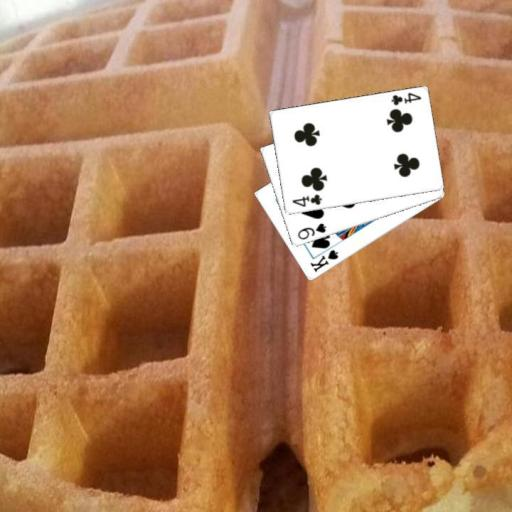4C: (388, 90, 423, 108), (289, 192, 323, 209)
9S: (294, 220, 328, 241)
KS: (307, 247, 340, 274)
